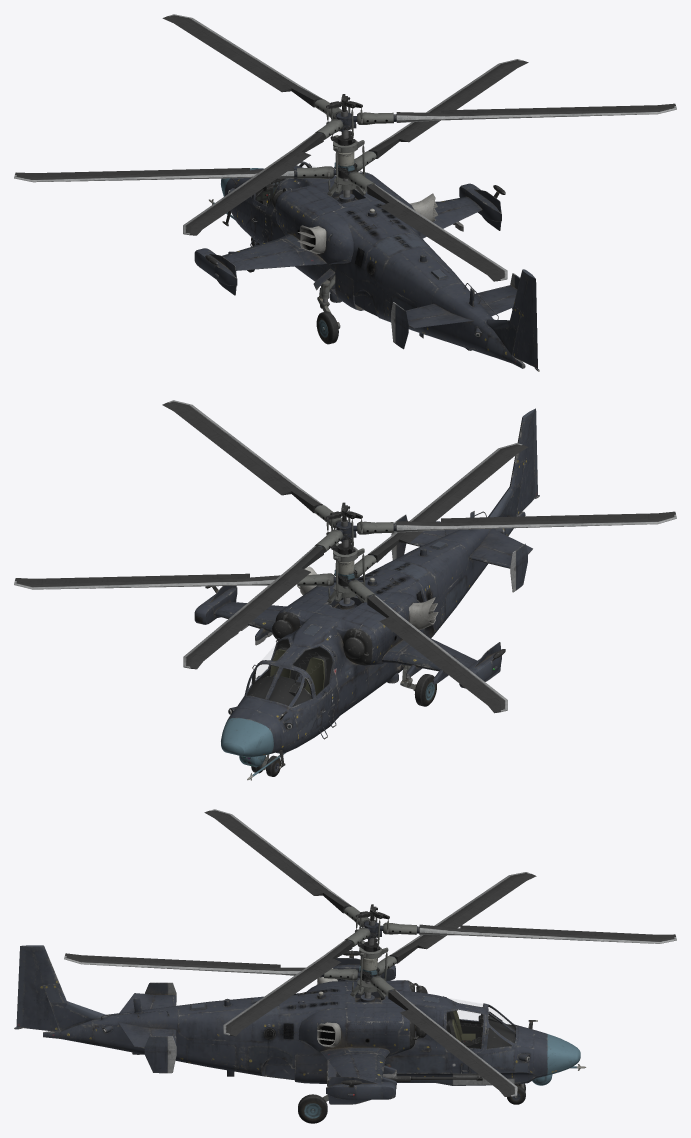
The picture shows the model from 3 angles, top to bottom: view 1: azimuth 30°, elevation 25°; view 2: azimuth 150°, elevation 25°; view 3: azimuth 270°, elevation 25°; orthographic projection. The views are drawn at different scales.
Visible parts, largest first — view 1: A_ka52; view 2: A_ka52; view 3: A_ka52.
Boxes of the visible parts, x1,y1,x2,y2 form: A_ka52: (14, 14, 676, 371); A_ka52: (14, 400, 676, 780); A_ka52: (14, 809, 676, 1123).
Size of the model in its own units: 36.1 by 14.19 by 44.78.
Materials: 2 (2 with a texture image).
